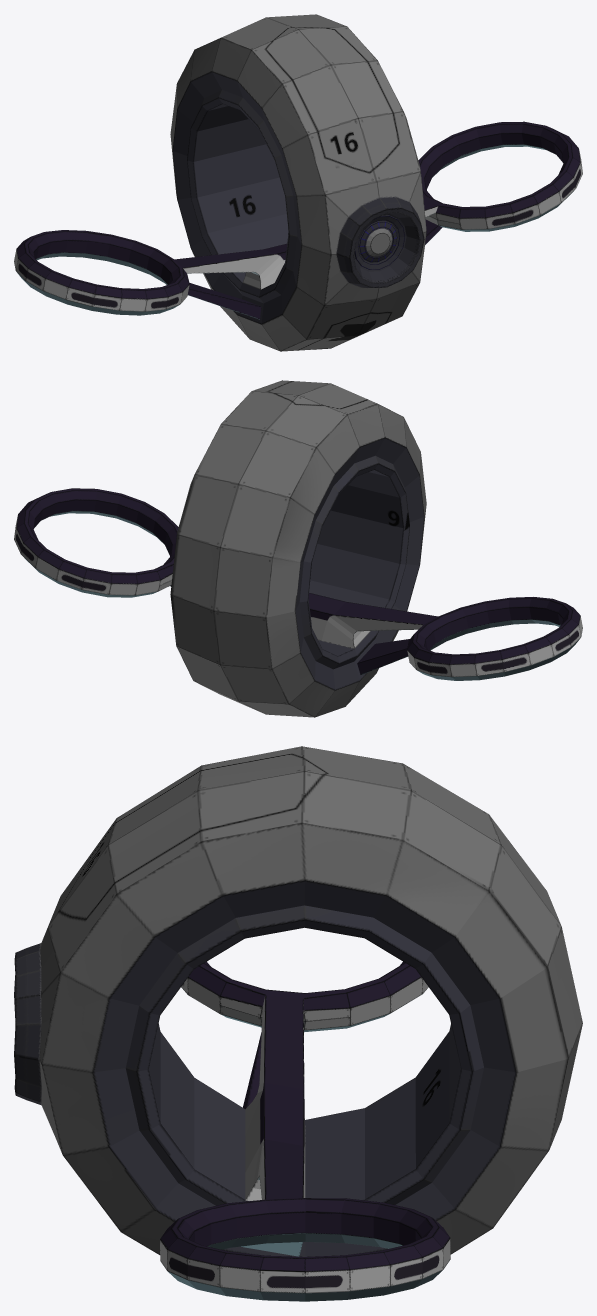
Rendered from ST_Dron.fbx.
3 renders of one model, top to bottom at view 1: azimuth 30°, elevation 25°; view 2: azimuth 150°, elevation 25°; view 3: azimuth 270°, elevation 25°, orthographic. The views are drawn at different scales.
Parts seen in each view (by area): view 1: body, Fan_body; view 2: body, Fan_body; view 3: body, Fan_body.
Part boxes in pixels (left/top/right/bottom): body: left=170, top=14, right=426, bottom=351; Fan_body: left=14, top=121, right=582, bottom=319; body: left=170, top=380, right=426, bottom=717; Fan_body: left=14, top=488, right=582, bottom=680; body: left=14, top=746, right=582, bottom=1256; Fan_body: left=160, top=961, right=450, bottom=1301.
Size of the model in its own units: 177 by 95.37 by 97.58.
2 materials, 2 textured.
